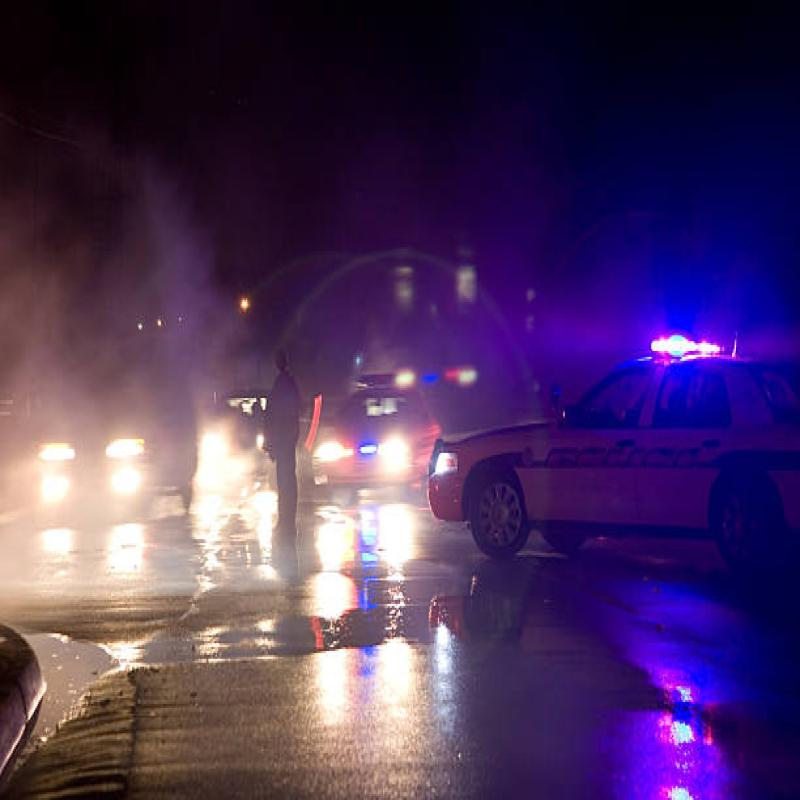AmbulanceSiren: (633, 302, 734, 383)
